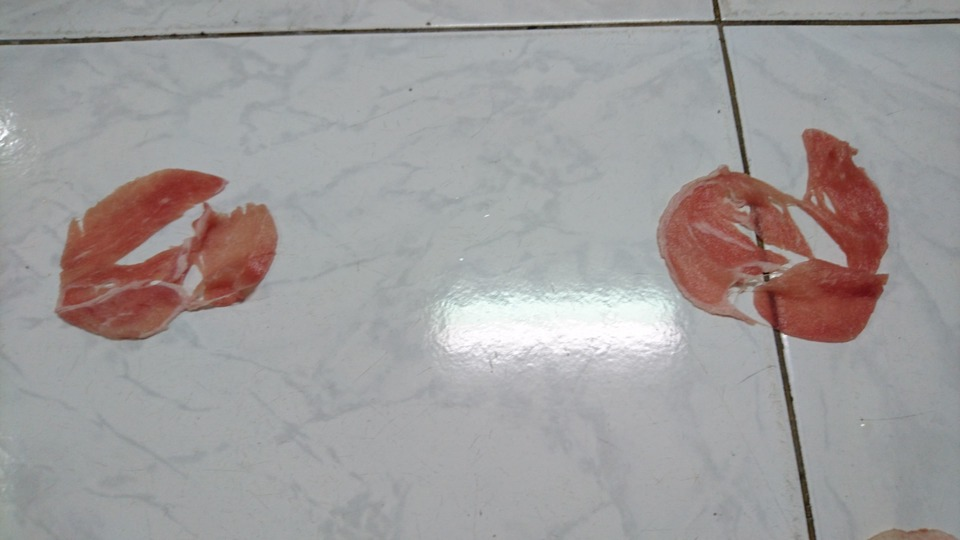restructured meat: (656, 119, 894, 349), (59, 162, 277, 342)
